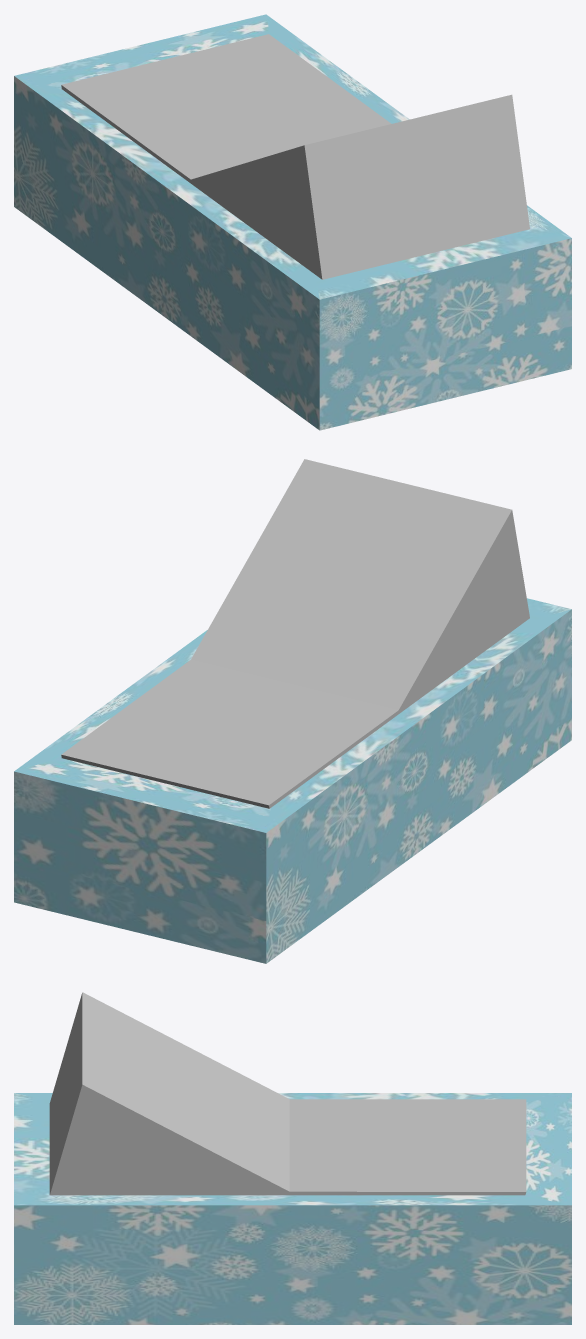
The model's file is snowButton.glb.
3 views of the same model, one above another, from view 1: azimuth 30°, elevation 25°; view 2: azimuth 150°, elevation 25°; view 3: azimuth 270°, elevation 25° (orthographic). The views are drawn at different scales.
Parts seen in each view (by area): view 1: scatola, pulsante; view 2: scatola, pulsante; view 3: scatola, pulsante.
Part boxes in pixels (bbox=[...]): scatola: bbox=[14, 14, 571, 430]; pulsante: bbox=[61, 34, 529, 279]; scatola: bbox=[14, 598, 571, 963]; pulsante: bbox=[61, 459, 529, 808]; scatola: bbox=[14, 1093, 571, 1324]; pulsante: bbox=[49, 992, 526, 1195].
Bounding box in the file's own units: 2.57 × 2.46 × 5.4.
2 materials, 1 textured.
